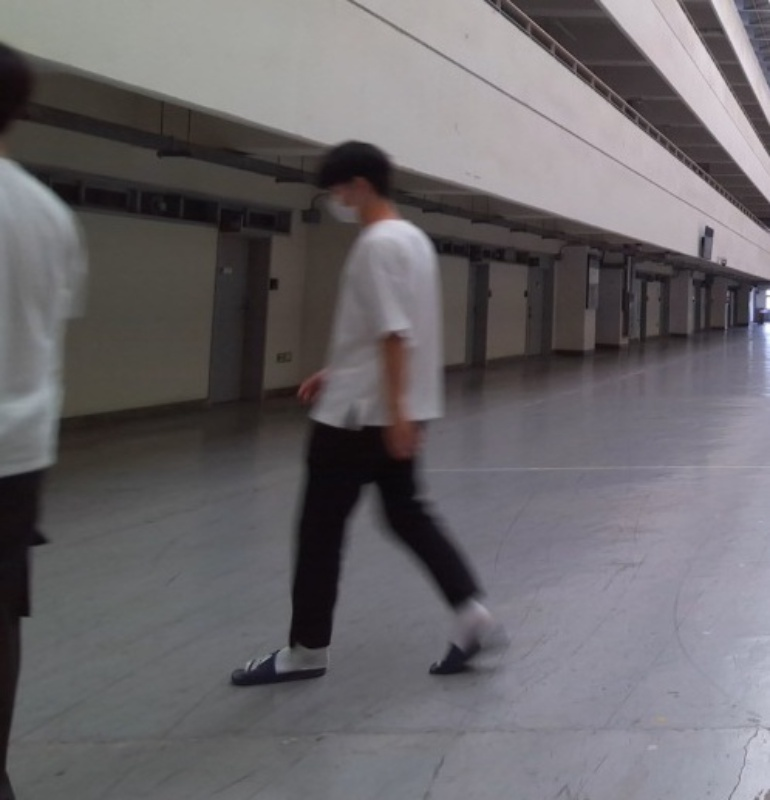person: (227, 138, 512, 689)
